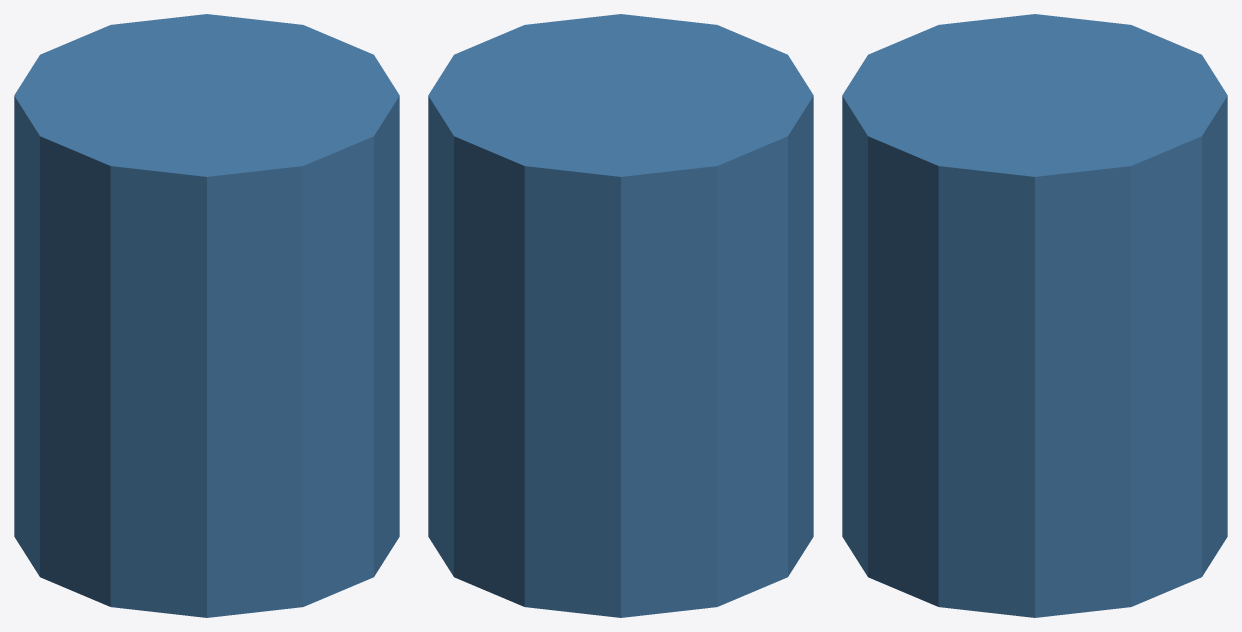
Rendered from O_enviroment_MetalPipe_medium1.fbx.
3 renders of one model, left to right at view 1: azimuth 30°, elevation 25°; view 2: azimuth 150°, elevation 25°; view 3: azimuth 270°, elevation 25°, orthographic.
Visible parts, largest first — view 1: pCylinder2; view 2: pCylinder2; view 3: pCylinder2.
Boxes of the visible parts, bbox=[...] form: pCylinder2: bbox=[14, 14, 399, 617]; pCylinder2: bbox=[428, 14, 813, 617]; pCylinder2: bbox=[842, 14, 1227, 617].
Size of the model in its own units: 1.17 by 1.48 by 1.17.
